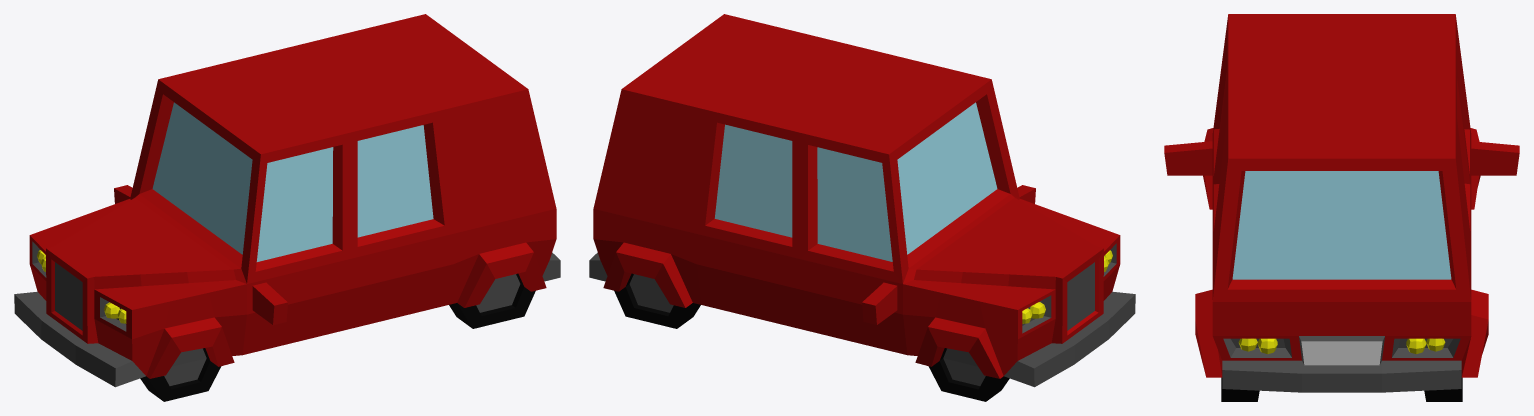
Rendered from BigCar.fbx.
3 renders of one model, left to right at view 1: azimuth 30°, elevation 25°; view 2: azimuth 150°, elevation 25°; view 3: azimuth 270°, elevation 25°, orthographic. The views are drawn at different scales.
Visible parts, largest first — view 1: Cube.189; view 2: Cube.189; view 3: Cube.189.
Boxes of the visible parts, bbox=[...] form: Cube.189: bbox=[14, 14, 560, 401]; Cube.189: bbox=[589, 14, 1135, 401]; Cube.189: bbox=[1164, 14, 1519, 401].
Size of the model in its own units: 280 by 132 by 171.
